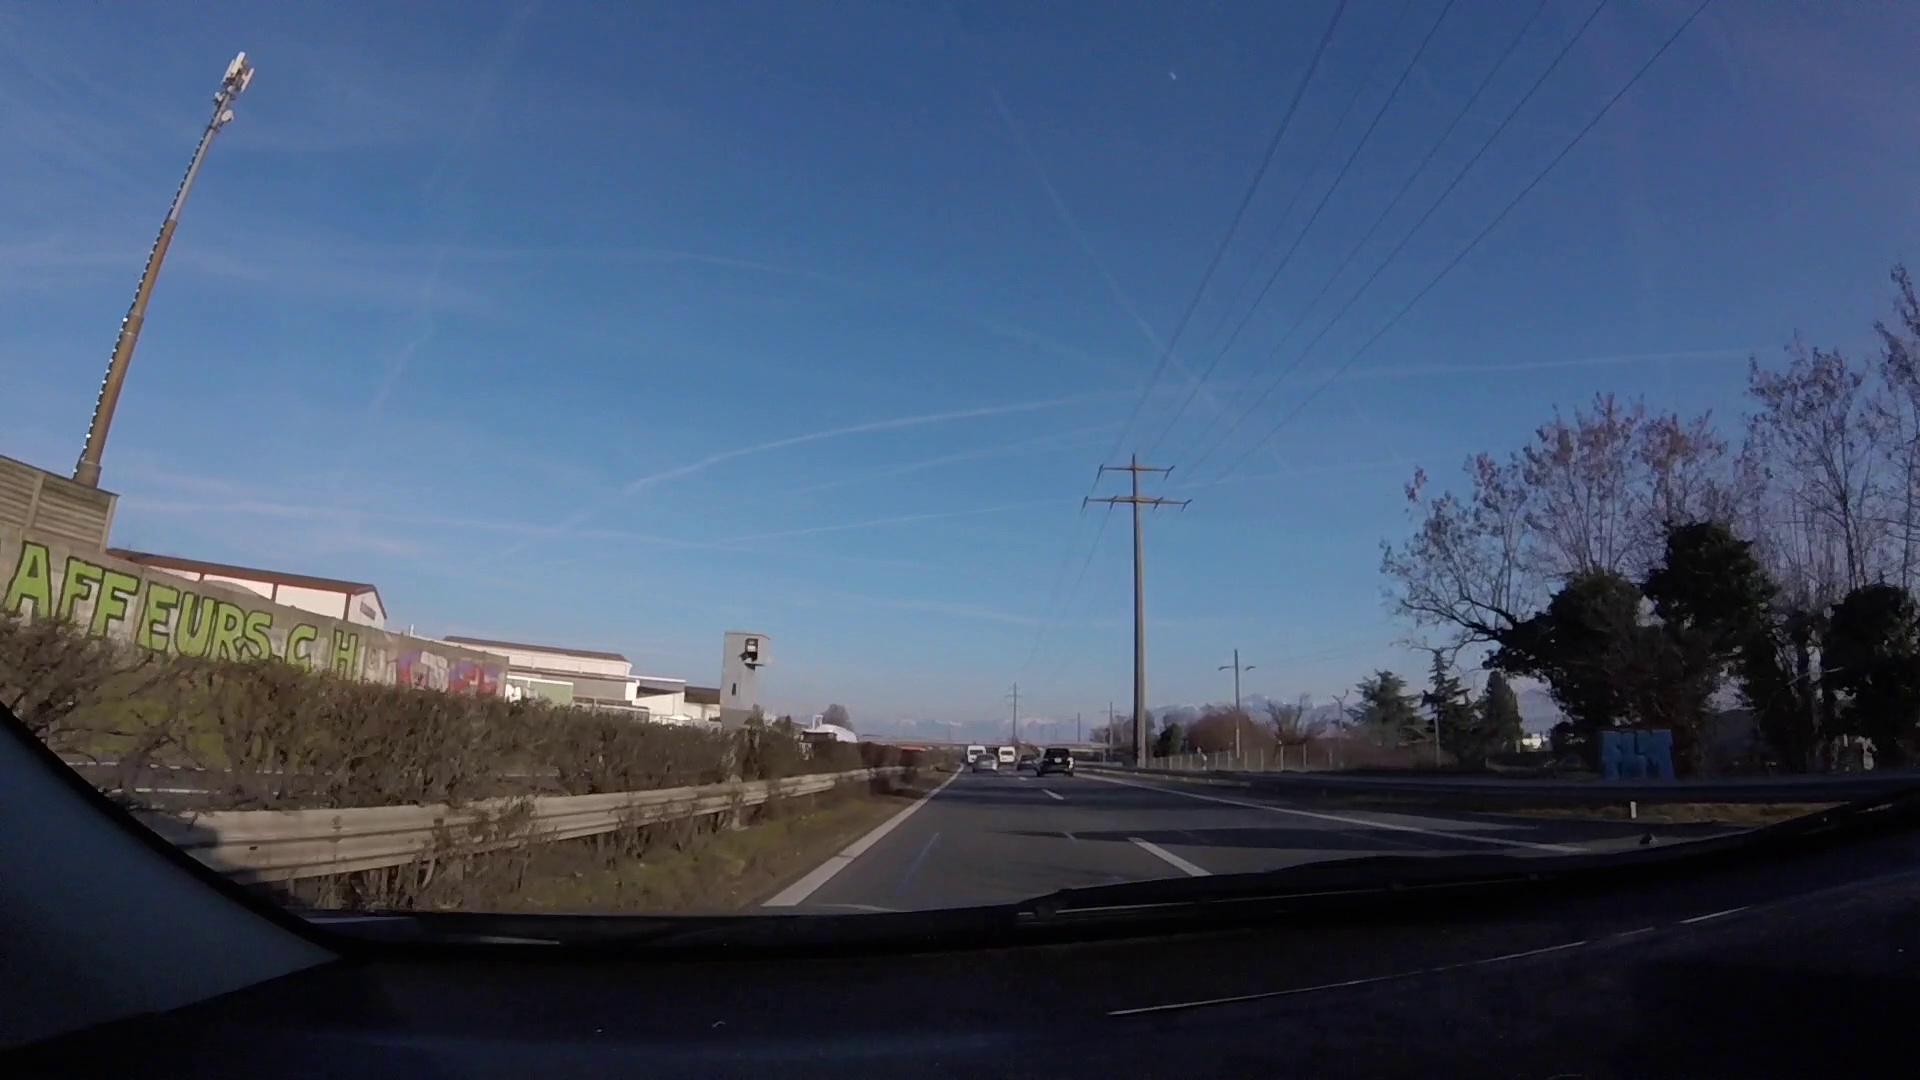radar: (719, 628, 773, 738)
